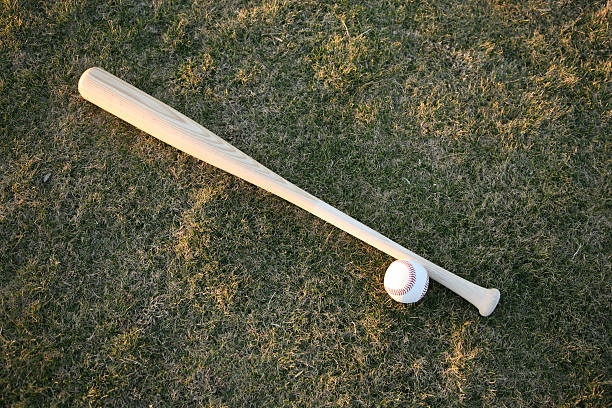bita: (77, 68, 500, 316)
